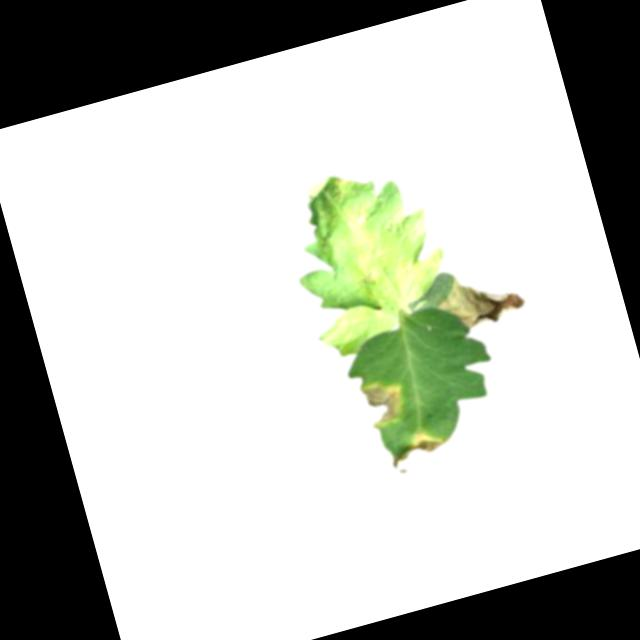Late_blight: (430, 258, 532, 340), (357, 373, 411, 431), (387, 426, 449, 475), (351, 263, 384, 293), (326, 172, 355, 204), (348, 202, 373, 229)
